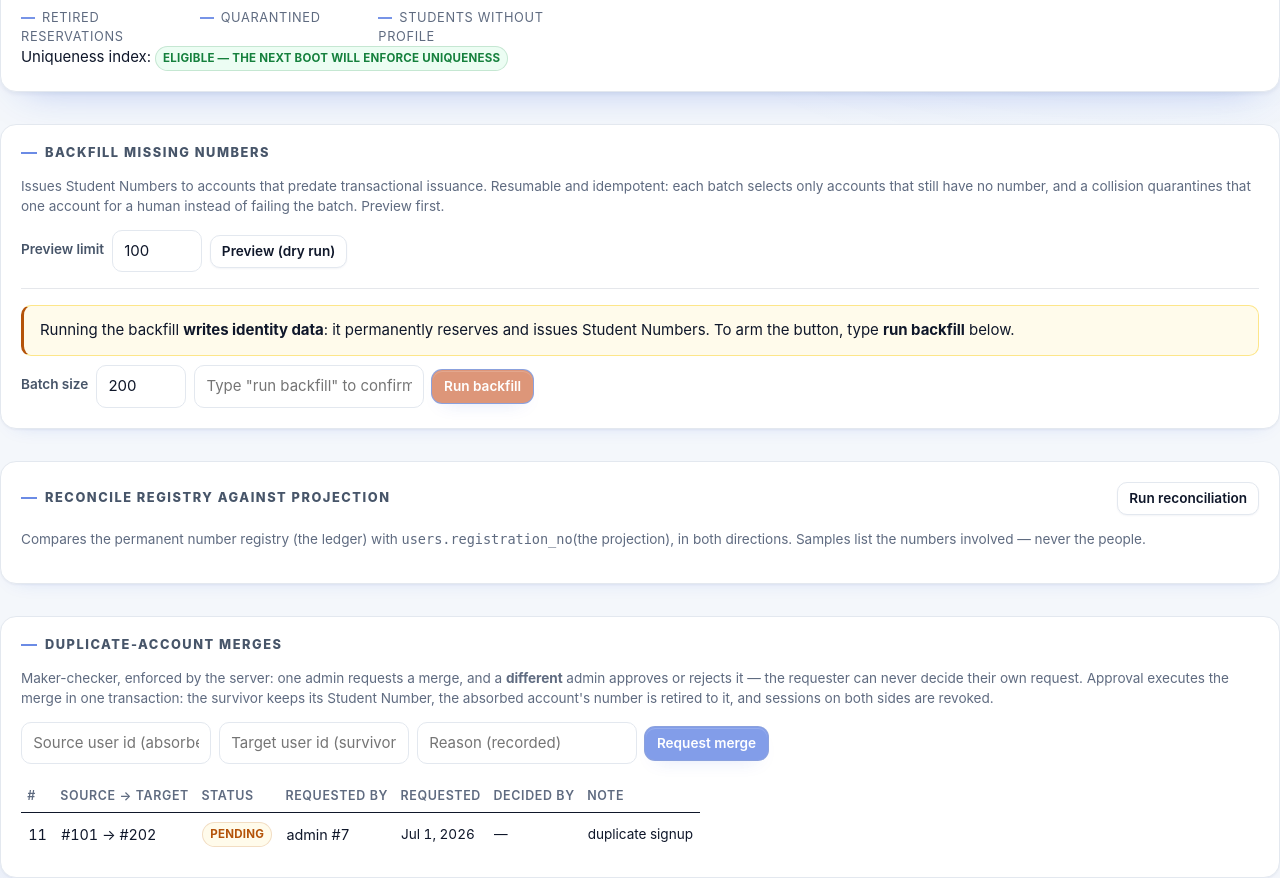
merge queue (maker-checker) › explains a 409 maker_checker as "a different admin must decide this"
(page scrolled)
Click the text "#101 → #202".
click(125, 834)  # box [54,812,195,857]
(page scrolled)
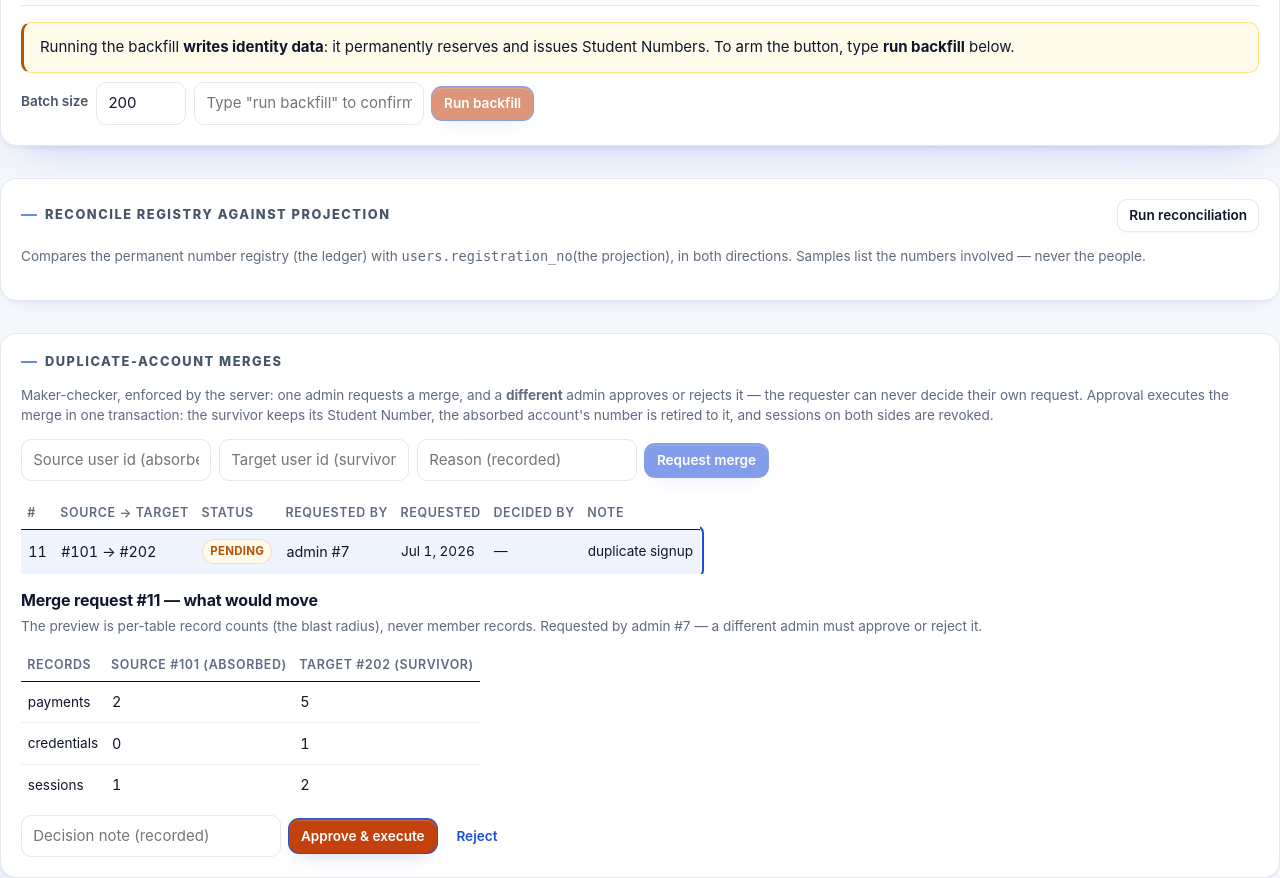
Click the button "Approve & execute".
click(363, 836)  # box [289,819,436,853]
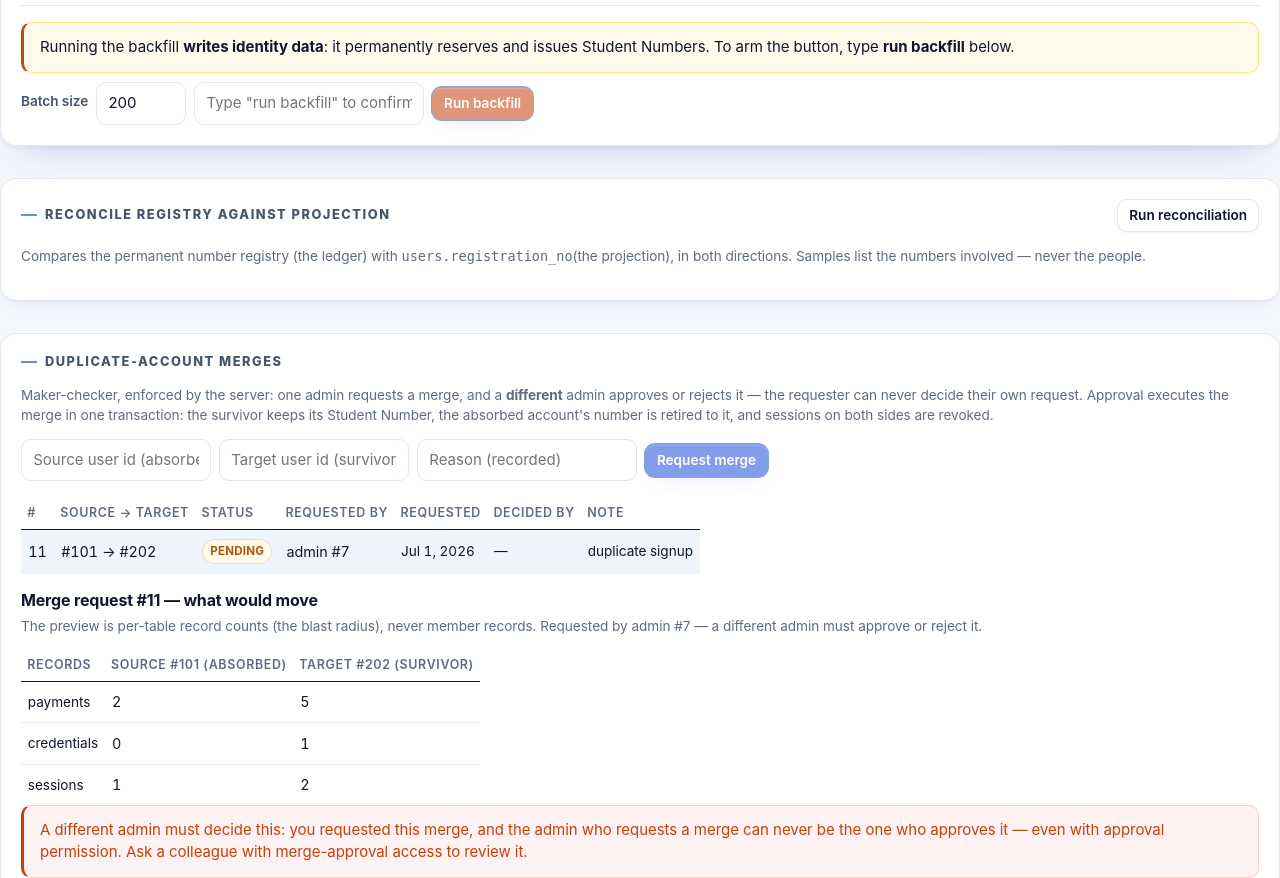
Expected: the message does not show "maker_checker", [21,805,1259,877]
Now the message shows "A different admin must decide this", box [40,820,1164,861]
Now the message shows "can never be the one who approves it", box [40,820,1164,861]
